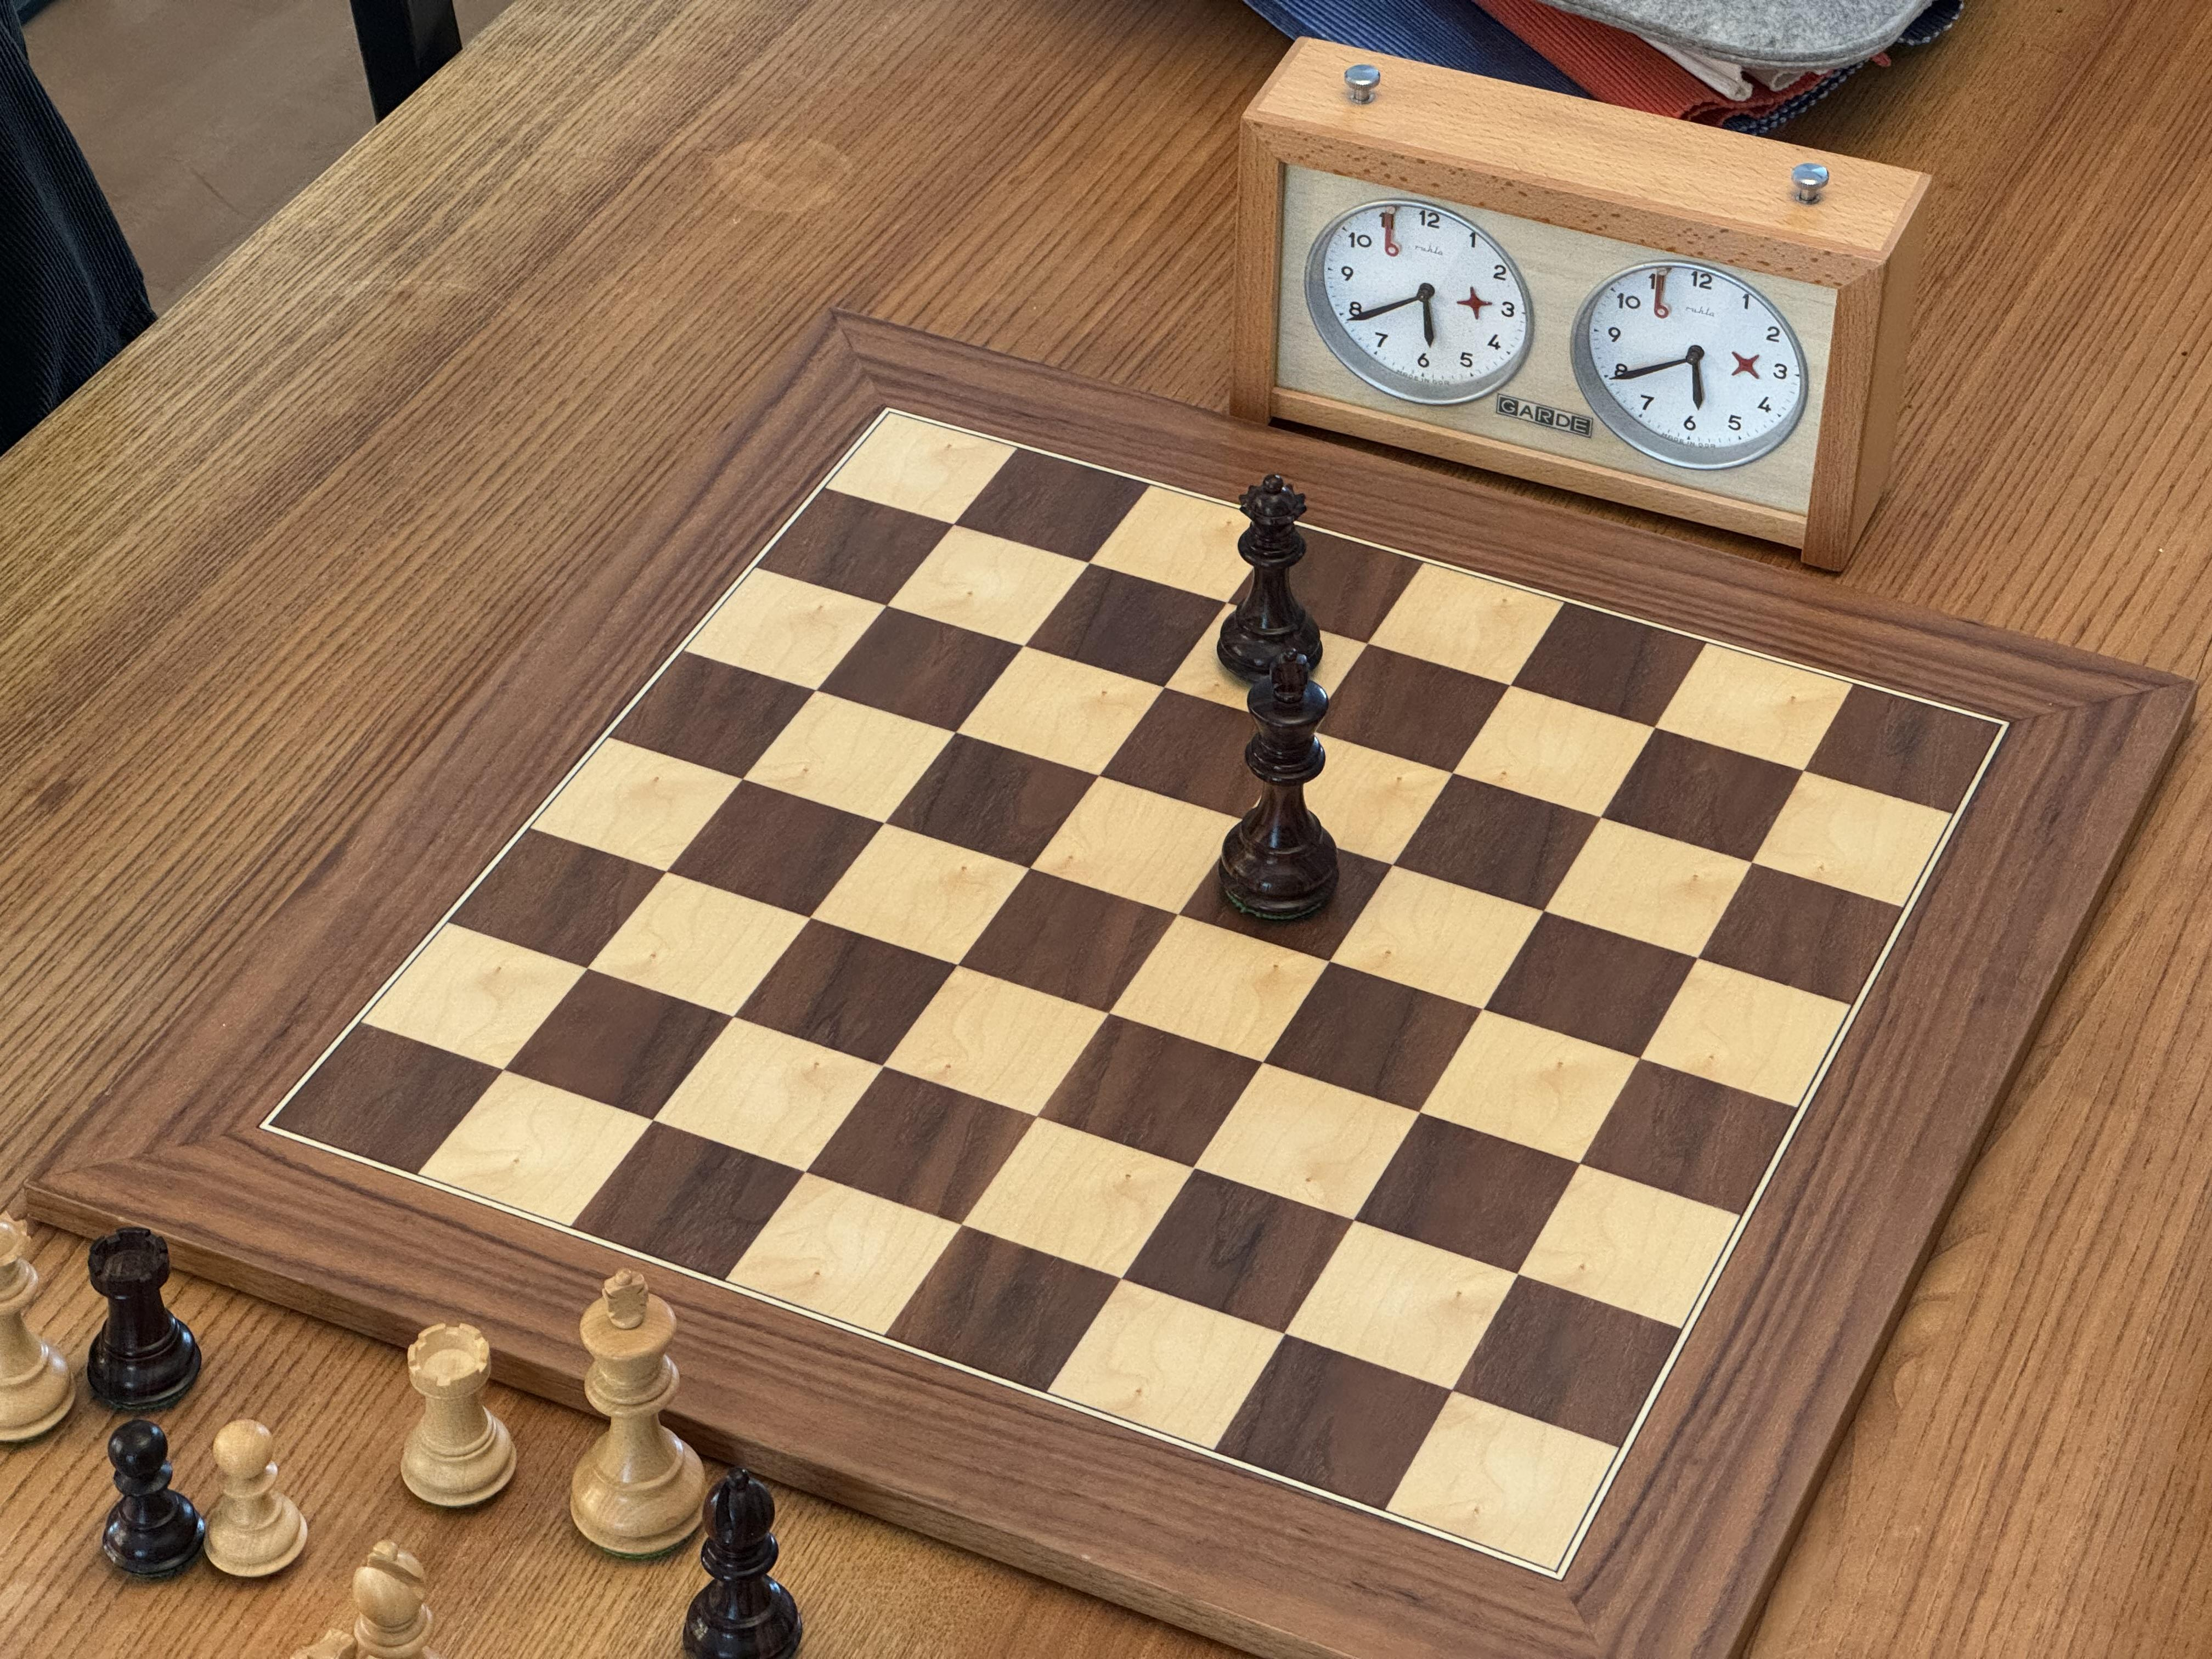Black King: (1217, 643, 1345, 929)
Black Queen: (1215, 467, 1330, 690)
